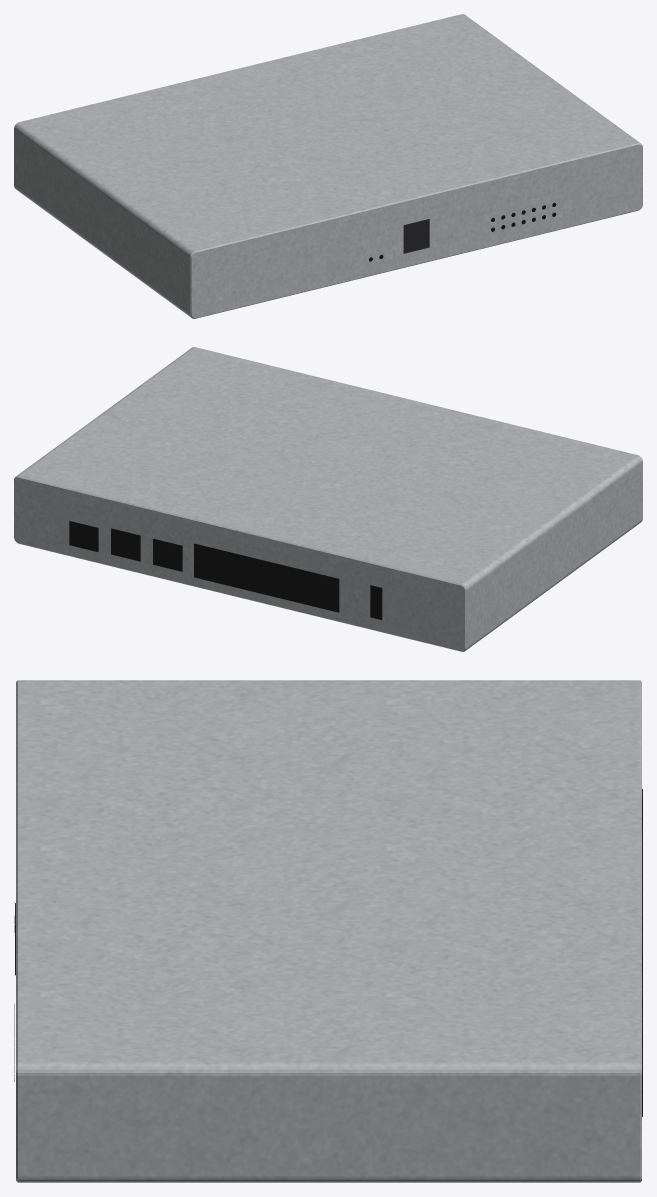
File: NSA220.far.glb
3 renders of one model, top to bottom at view 1: azimuth 30°, elevation 25°; view 2: azimuth 150°, elevation 25°; view 3: azimuth 270°, elevation 25°, orthographic. The views are drawn at different scales.
Visible parts, largest first — view 1: Shell_far; view 2: Shell_far; view 3: Shell_far.
Boxes of the visible parts, x1,y1,x2,y2 form: Shell_far: [14, 14, 642, 318]; Shell_far: [14, 347, 642, 651]; Shell_far: [15, 680, 642, 1182].
Bounding box in the file's own units: 0.2667 × 0.0381 × 0.1818.
Materials: 3 (2 with a texture image).
